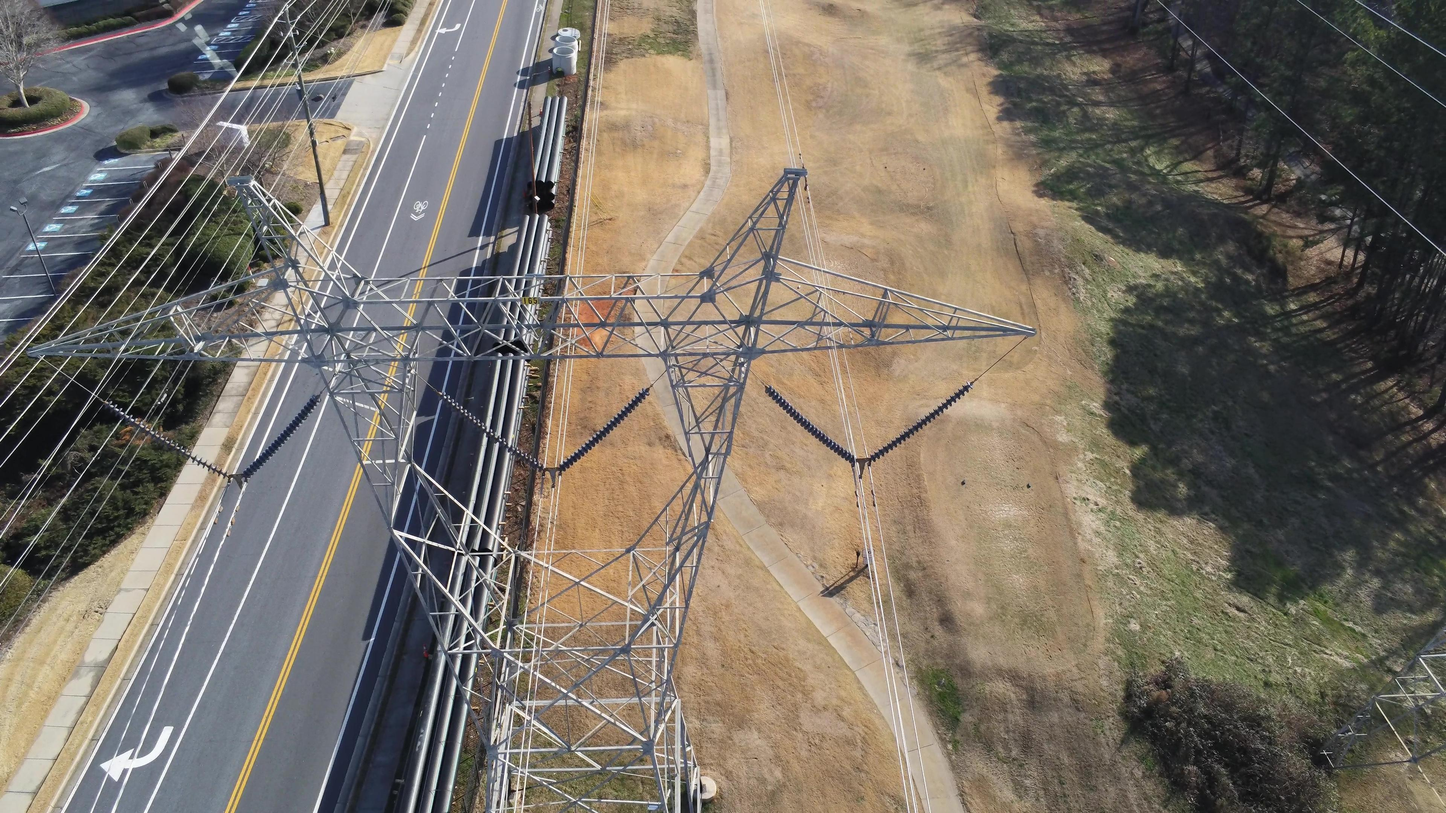power_tower: (26, 168, 1039, 813)
